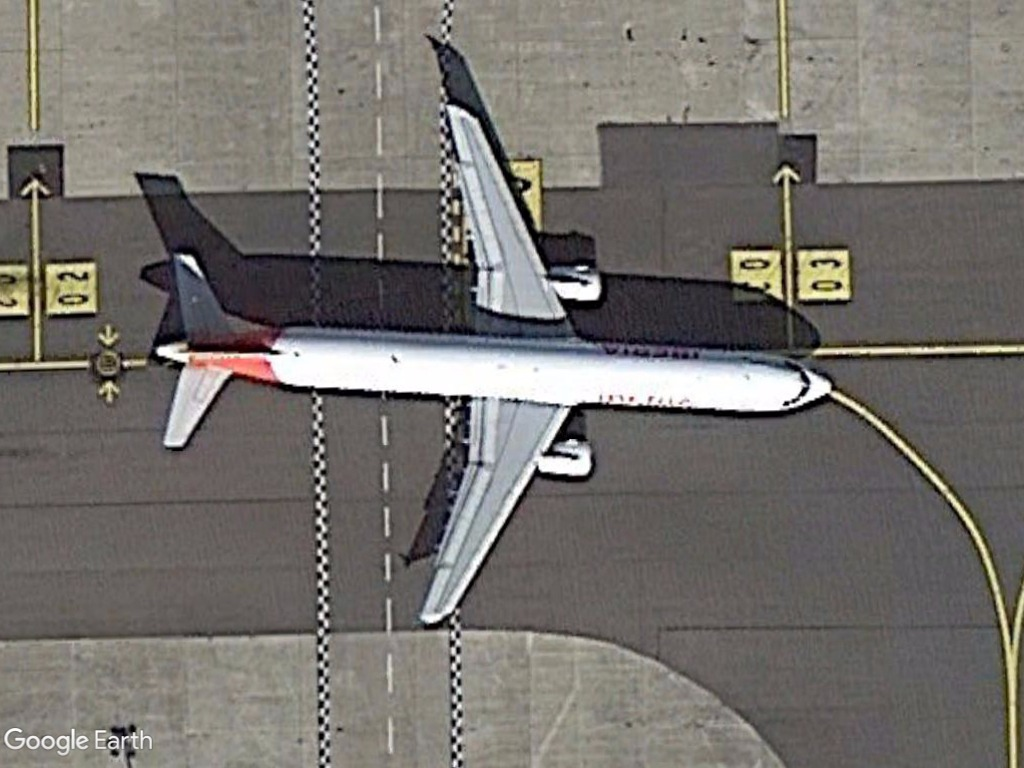airliner: (147, 88, 841, 643)
